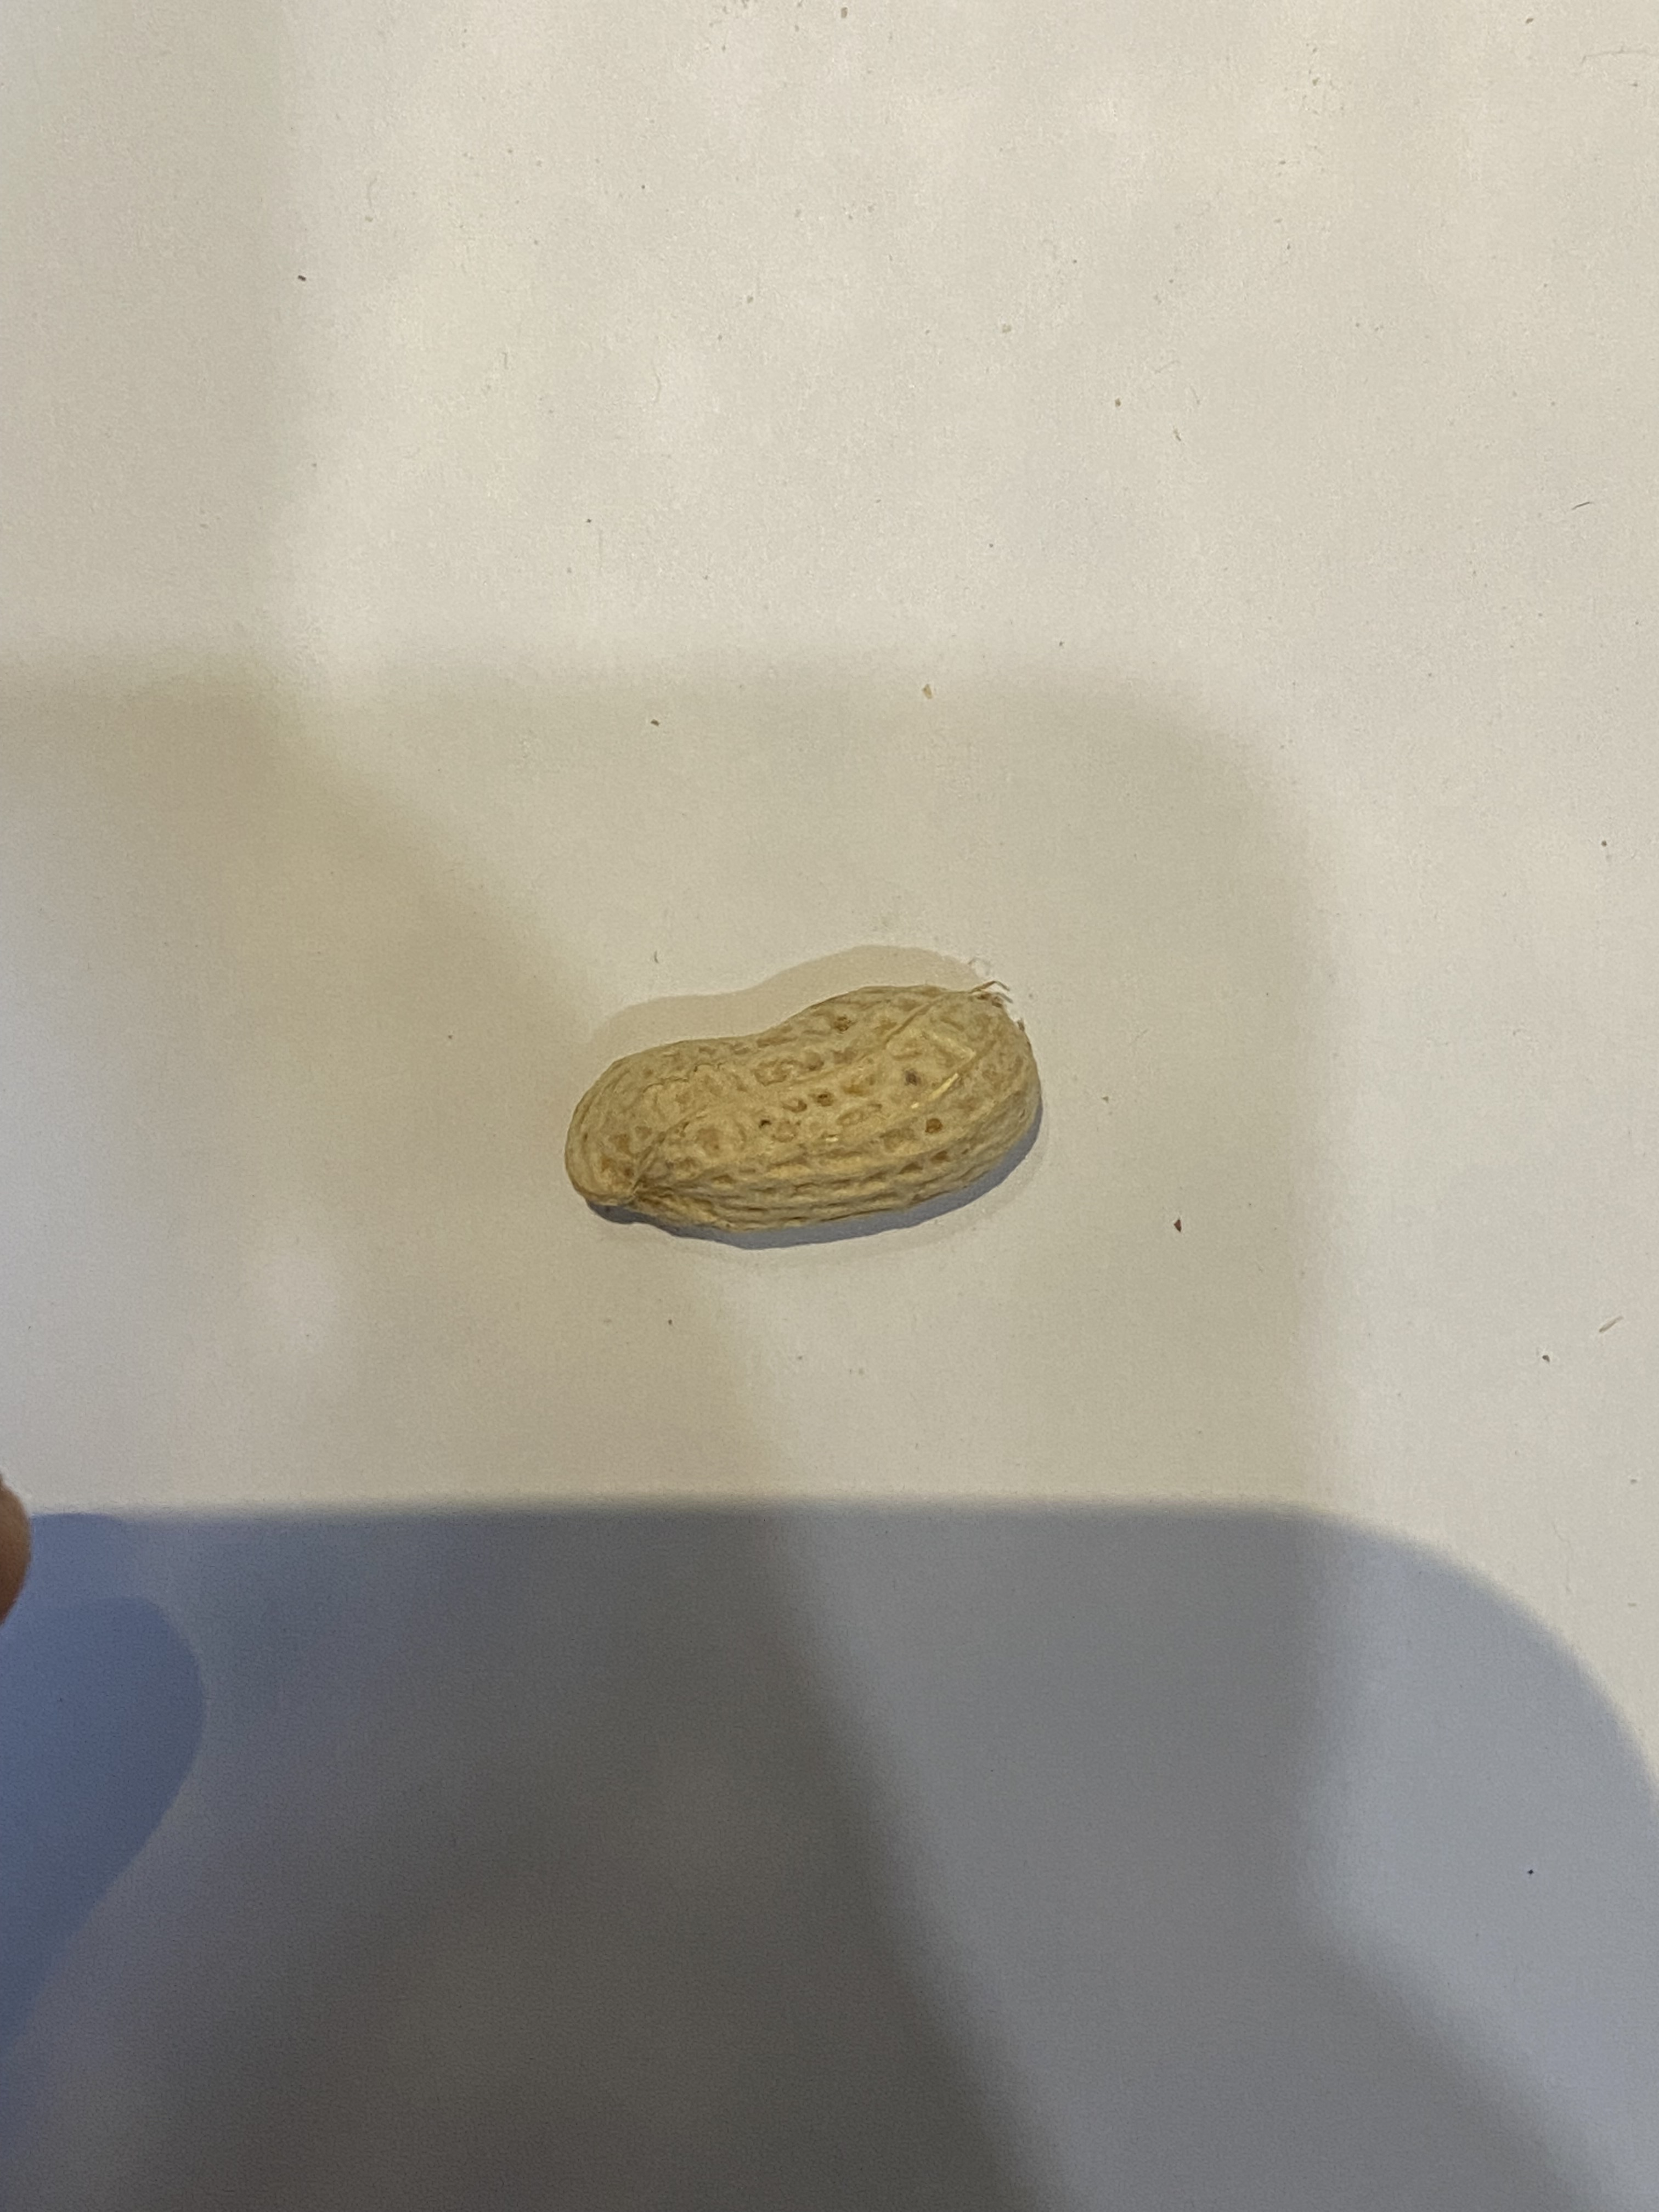kacang2: (526, 972, 1058, 1247)
